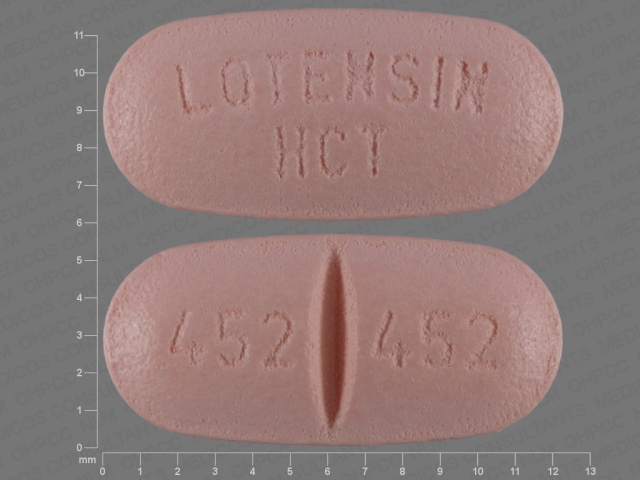2: (463, 310, 509, 376), (260, 306, 298, 369)
4: (369, 308, 417, 369), (167, 304, 207, 375)
5: (419, 306, 460, 372), (213, 305, 255, 368)
C: (316, 123, 346, 185)
E: (299, 44, 337, 109)
H: (271, 121, 312, 185)
I: (430, 53, 445, 112)
L: (167, 61, 217, 117)
N: (449, 54, 493, 118), (338, 47, 378, 107)
O: (218, 56, 253, 111)
S: (387, 52, 422, 106)
T: (354, 119, 392, 181), (258, 48, 295, 110)
|: (310, 229, 357, 448)
